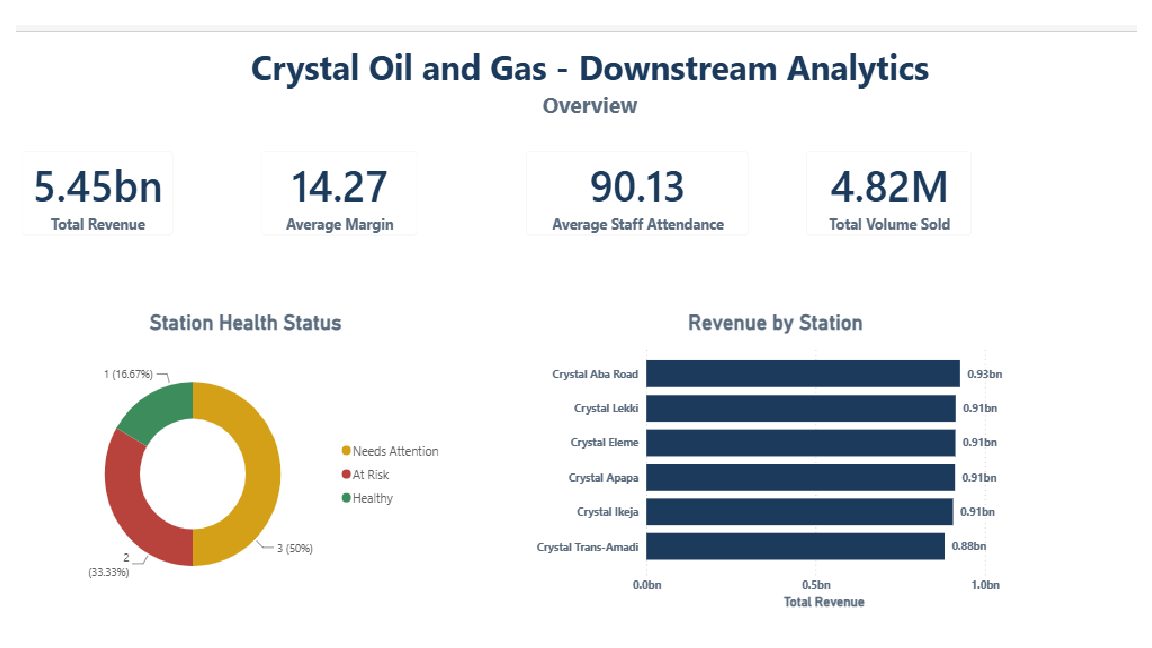

Layout of this report page (visuals, bound fields, positions):
{"tool":"powerbi","page":{"name":"Overview","canvas":[1280,720],"ordinal":0},"visuals":[{"type":"cardVisual","fields":{"Data":["Sum(vw_station_revenue.total_revenue)"]},"box":[0,172,204.1,124.7],"z":0},{"type":"cardVisual","fields":{"Data":["Avg(vw_product_margin.avg_margin_pct)"]},"box":[268.3,172,209.8,124.7],"z":1000},{"type":"cardVisual","fields":{"Data":["Avg(vw_staff_attendance_rate.attendance_rate_pct)"]},"box":[565,172,283.5,124.7],"z":2000},{"type":"cardVisual","fields":{"Data":["Sum(vw_product_monthly_trend.total_volume)"]},"box":[878.7,172,219.2,124.7],"z":3000},{"type":"donutChart","title":"Station Health Status","fields":{"Category":["vw_network_health_overview.health_status"],"Y":["CountNonNull(vw_network_health_overview.station_name)"]},"box":[37.8,359.1,461.1,325],"z":4000},{"type":"clusteredBarChart","title":"Revenue by Station","fields":{"Category":["vw_station_revenue.station_name"],"Y":["Sum(vw_station_revenue.total_revenue)"]},"box":[587.7,359.1,548,325],"z":5000},{"type":"textbox","box":[102,68,1103.6,103.9],"z":6000}]}

Visuals, with their boxes in screenshot pixels (x1, y1, x2, y2), scaled from the page's 1280x720 canvas onto the 1152x648 screenshot:
cardVisual - Sum(vw_station_revenue.total_revenue): detection(0, 155, 184, 267)
cardVisual - Avg(vw_product_margin.avg_margin_pct): detection(241, 155, 430, 267)
cardVisual - Avg(vw_staff_attendance_rate.attendance_rate_pct): detection(508, 155, 764, 267)
cardVisual - Sum(vw_product_monthly_trend.total_volume): detection(791, 155, 988, 267)
"Station Health Status" donutChart: detection(34, 323, 449, 616)
"Revenue by Station" clusteredBarChart: detection(529, 323, 1022, 616)
textbox: detection(92, 61, 1085, 155)
